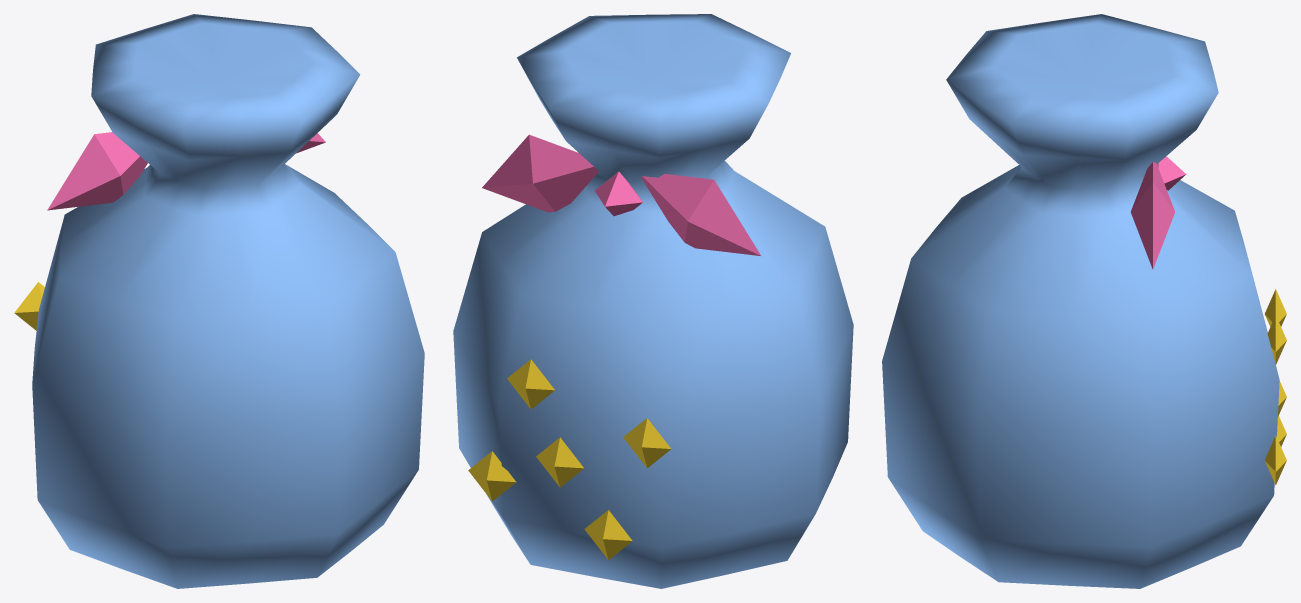
File: CandyBag.fbx
3 views of the same model, side by side, from view 1: azimuth 30°, elevation 25°; view 2: azimuth 150°, elevation 25°; view 3: azimuth 270°, elevation 25° (orthographic).
Visible parts, largest first — view 1: CandyBag; view 2: CandyBag; view 3: CandyBag.
Part boxes in pixels (box(x1,y1,x2,y2)): CandyBag: box(14, 14, 424, 588); CandyBag: box(453, 14, 853, 588); CandyBag: box(882, 14, 1286, 588).
Bounding box in the file's own units: 0.0712 × 0.092 × 0.0725.
